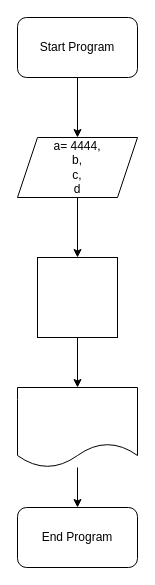
Some shapes in this 155 by 585 pixel diagram are drawn without their labels. The shapes that lost their labels are listed below. From the top down, each one's centre as x and y in pixels, then its label:
At (x=77, y=297): "b=a *20/100, c=b *10/100, result=c *c".
At (x=77, y=427): "result".
